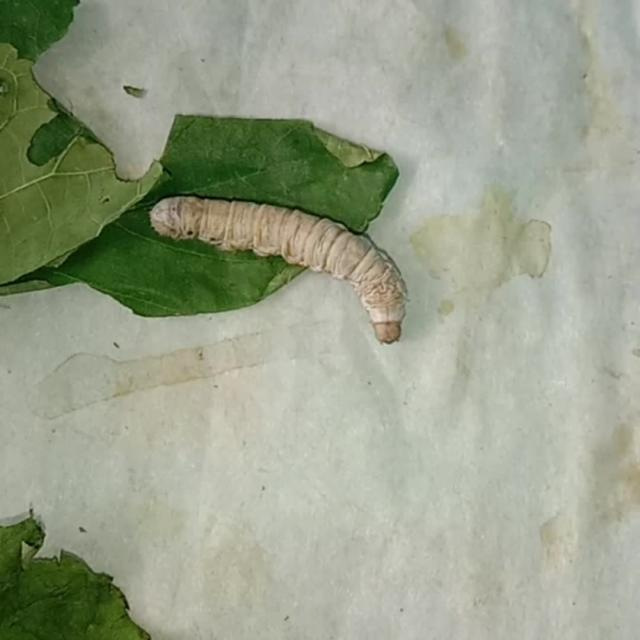Grasserie: (114, 145, 464, 379)
